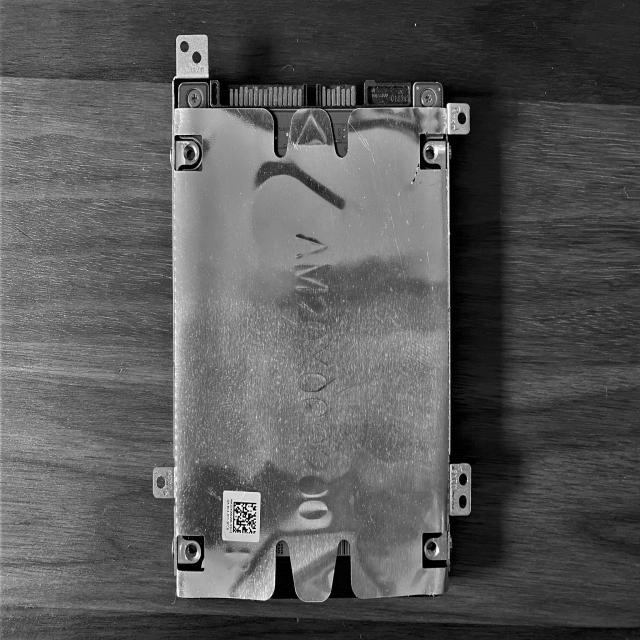PhillipsScrewHead: (419, 88, 436, 108), (187, 89, 203, 108)
